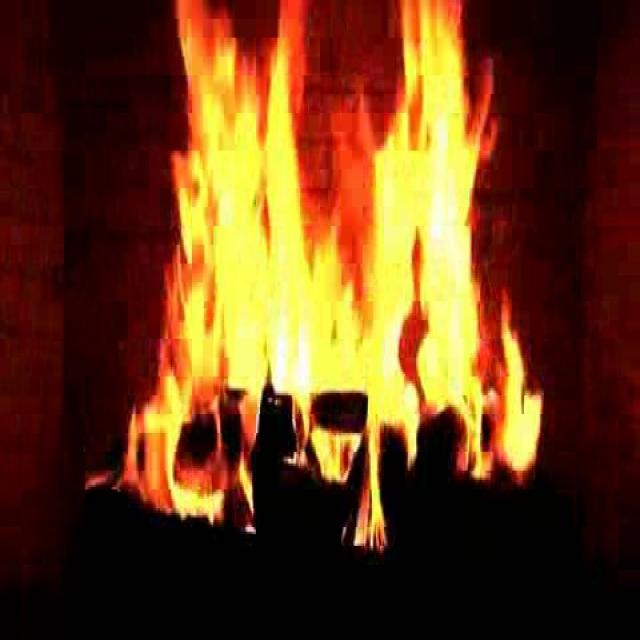fire: (140, 2, 524, 513)
